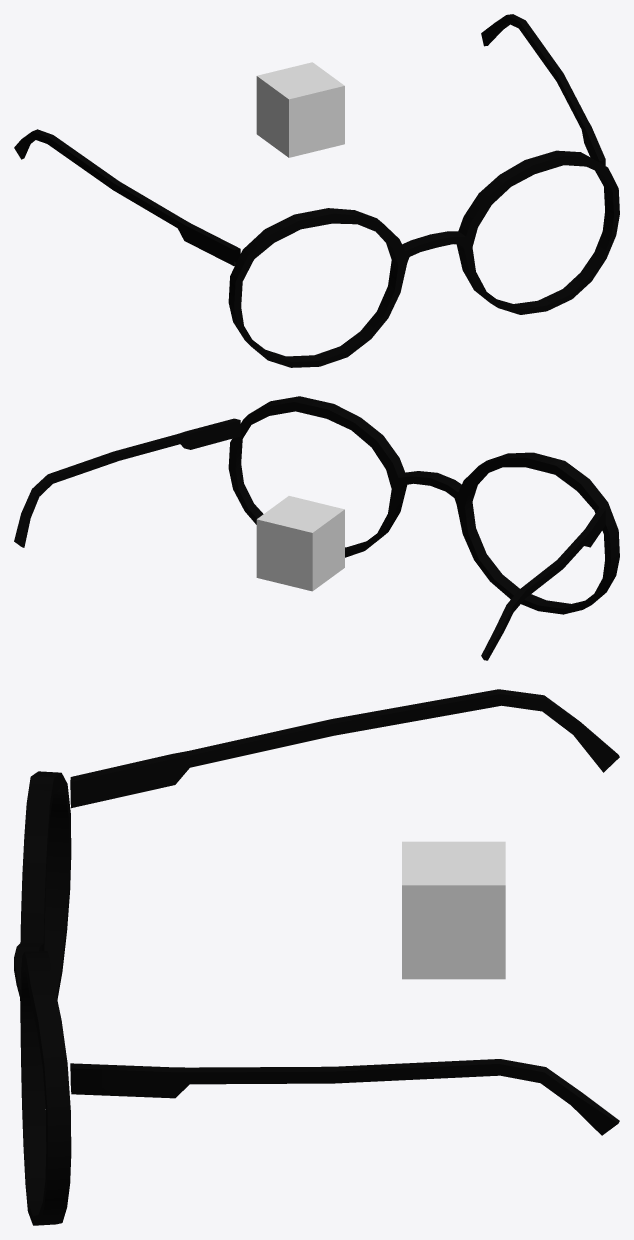
The model's file is boy_glasses7.FBX.
3 views of the same model, one above another, from view 1: azimuth 30°, elevation 25°; view 2: azimuth 150°, elevation 25°; view 3: azimuth 270°, elevation 25° (orthographic). The views are drawn at different scales.
Parts seen in each view (by area): view 1: boy_glasses04, faceSpawn; view 2: boy_glasses04, faceSpawn; view 3: boy_glasses04, faceSpawn.
Boxes of the visible parts, x1=… form: boy_glasses04: x1=14, y1=14, x2=619, y2=367; faceSpawn: x1=256, y1=62, x2=344, y2=157; boy_glasses04: x1=14, y1=396, x2=619, y2=660; faceSpawn: x1=256, y1=496, x2=344, y2=591; boy_glasses04: x1=14, y1=689, x2=619, y2=1225; faceSpawn: x1=402, y1=841, x2=505, y2=979.
Bounding box in the file's own units: 43.03 × 13.78 × 29.22.
